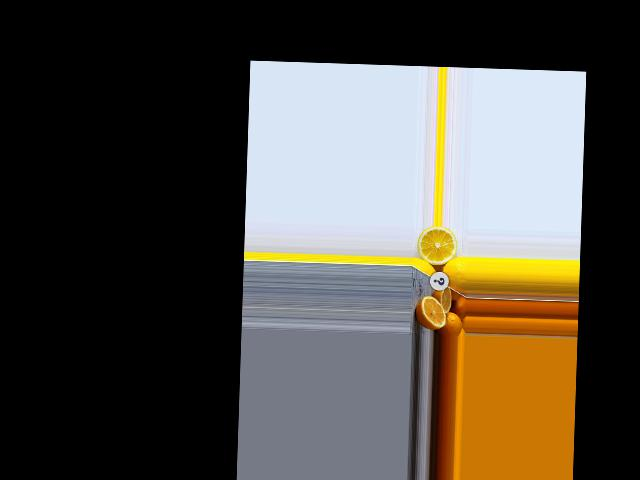lemon: (440, 253, 467, 294)
